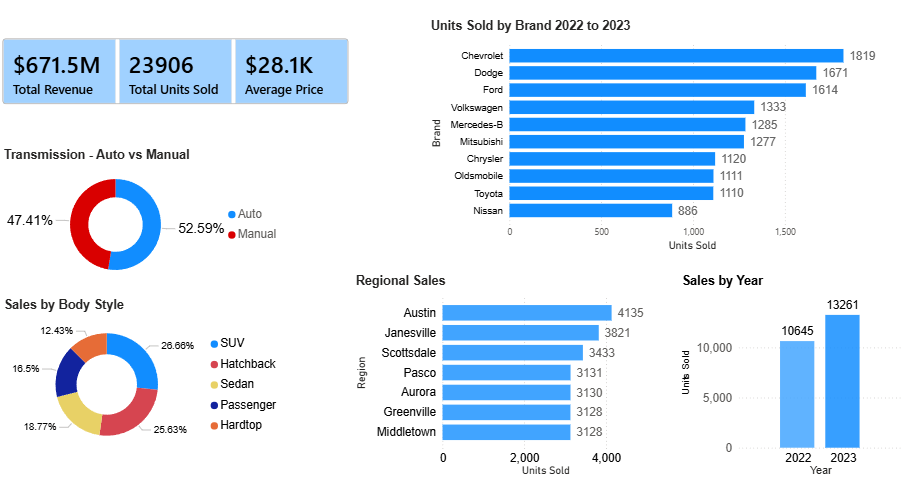

The page's visual inventory and layout, read from the dashboard file:
{"tool":"powerbi","page":{"name":"Page 1","canvas":[1280,720],"ordinal":0},"visuals":[{"type":"clusteredBarChart","title":"Units Sold by Brand 2022 to 2023","fields":{"Category":["Car Sales xlsx - car_data.Company"],"Y":["CountNonNull(Car Sales xlsx - car_data.Car_id)"]},"box":[14.5,111.6,607.2,344.9],"z":0},{"type":"donutChart","title":"Sales by Body  Style","fields":{"Category":["Car Sales xlsx - car_data.Body Style"],"Y":["CountNonNull(Car Sales xlsx - car_data.Car_id)"]},"box":[722.2,23.8,557.1,215.9],"z":1000},{"type":"donutChart","title":"Transmission - Auto vs Manual","fields":{"Category":["Car Sales xlsx - car_data.Transmission"],"Y":["CountNonNull(Car Sales xlsx - car_data.Car_id)"]},"box":[13.8,496.9,547.7,192.3],"z":2000},{"type":"clusteredBarChart","title":"Regional Sales","fields":{"Category":["Car Sales xlsx - car_data.Dealer_Region"],"Y":["CountNonNull(Car Sales xlsx - car_data.Car_id)"]},"box":[588.9,457.1,642.9,242.9],"z":3000},{"type":"clusteredColumnChart","title":"Sales of Cars by Year","fields":{"Category":["Car Sales xlsx - car_data.Year"],"Y":["CountNonNull(Car Sales xlsx - car_data.Car_id)"],"Series":["Car Sales xlsx - car_data.Date.Variation.Date Hierarchy.Year"]},"box":[721.5,235.4,510.8,221.5],"z":5000},{"type":"cardVisual","fields":{"Data":["CountNonNull(Car Sales xlsx - car_data.Car_id)"]},"box":[14.3,22.2,187.3,90.5],"z":6000},{"type":"card","fields":{"Values":["Sum(Car Sales xlsx - car_data.Price ($))"]},"box":[190.5,20.6,173,93.7],"z":7000},{"type":"card","fields":{"Values":["Avg(Car Sales xlsx - car_data.Price ($))"]},"box":[363.5,23.8,177.8,92.1],"z":8000},{"type":"card","fields":{"Values":["Count(Car Sales xlsx - car_data.Company)"]},"box":[555.6,23.8,166.7,92.1],"z":9000}]}

Visuals, with their boxes on the page's 1280x720 design canvas (x1, y1, x2, y2). These are canvas units, not pixel positions in the 915x482 screenshot, which may show the page scaled, cropped or inside an application window:
"Units Sold by Brand 2022 to 2023" clusteredBarChart: BBox(14, 112, 622, 456)
"Sales by Body  Style" donutChart: BBox(722, 24, 1279, 240)
"Transmission - Auto vs Manual" donutChart: BBox(14, 497, 562, 689)
"Regional Sales" clusteredBarChart: BBox(589, 457, 1232, 700)
"Sales of Cars by Year" clusteredColumnChart: BBox(722, 235, 1232, 457)
cardVisual - CountNonNull(Car Sales xlsx - car_data.Car_id): BBox(14, 22, 202, 113)
card - Sum(Car Sales xlsx - car_data.Price ($)): BBox(190, 21, 364, 114)
card - Avg(Car Sales xlsx - car_data.Price ($)): BBox(364, 24, 541, 116)
card - Count(Car Sales xlsx - car_data.Company): BBox(556, 24, 722, 116)
